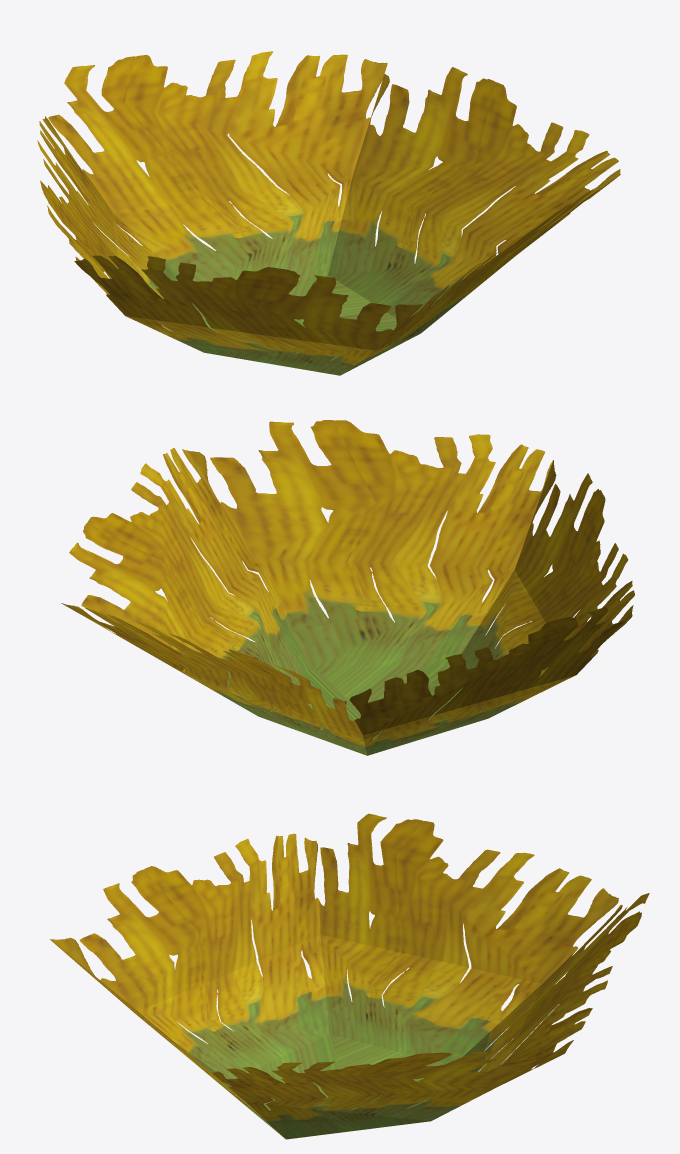
The picture shows the model from 3 angles, top to bottom: view 1: azimuth 30°, elevation 25°; view 2: azimuth 150°, elevation 25°; view 3: azimuth 270°, elevation 25°; orthographic projection. The views are drawn at different scales.
Parts seen in each view (by area): view 1: BT_1_F_2_1; view 2: BT_1_F_2_1; view 3: BT_1_F_2_1.
Part boxes in pixels (x1,y1,x2,y2): BT_1_F_2_1: [37, 51, 620, 375]; BT_1_F_2_1: [61, 420, 634, 755]; BT_1_F_2_1: [50, 813, 649, 1139].
Bounding box in the file's own units: 4.7 × 1.58 × 4.79.
Materials: 1 (1 with a texture image).
